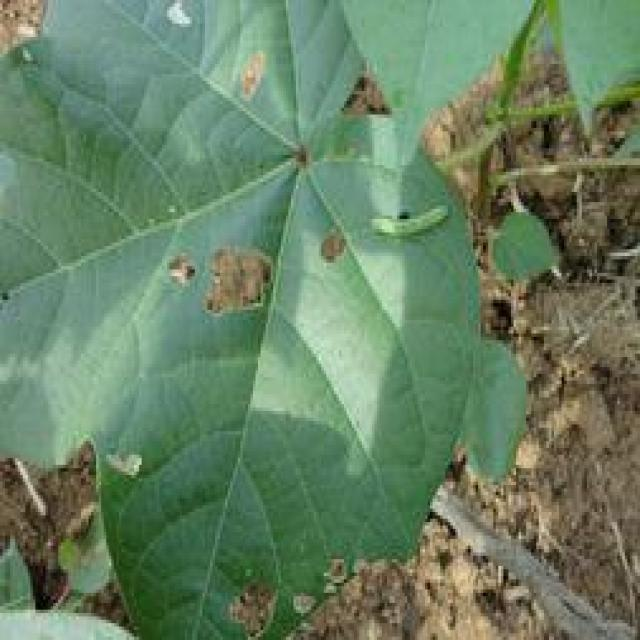BeetArmyWorm-Larva-: (370, 196, 454, 244)
